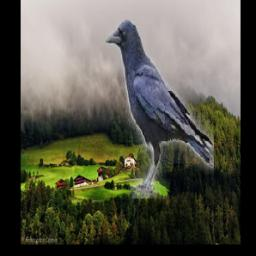Crow: (106, 20, 214, 199)
